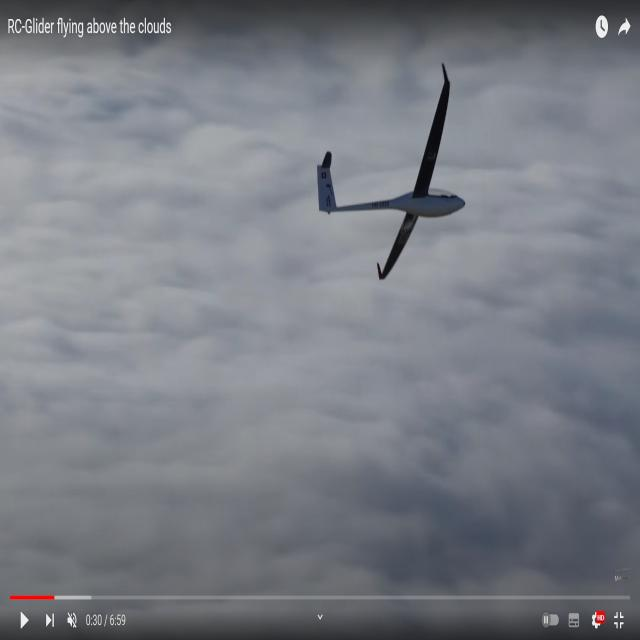iha: (314, 65, 466, 280)
